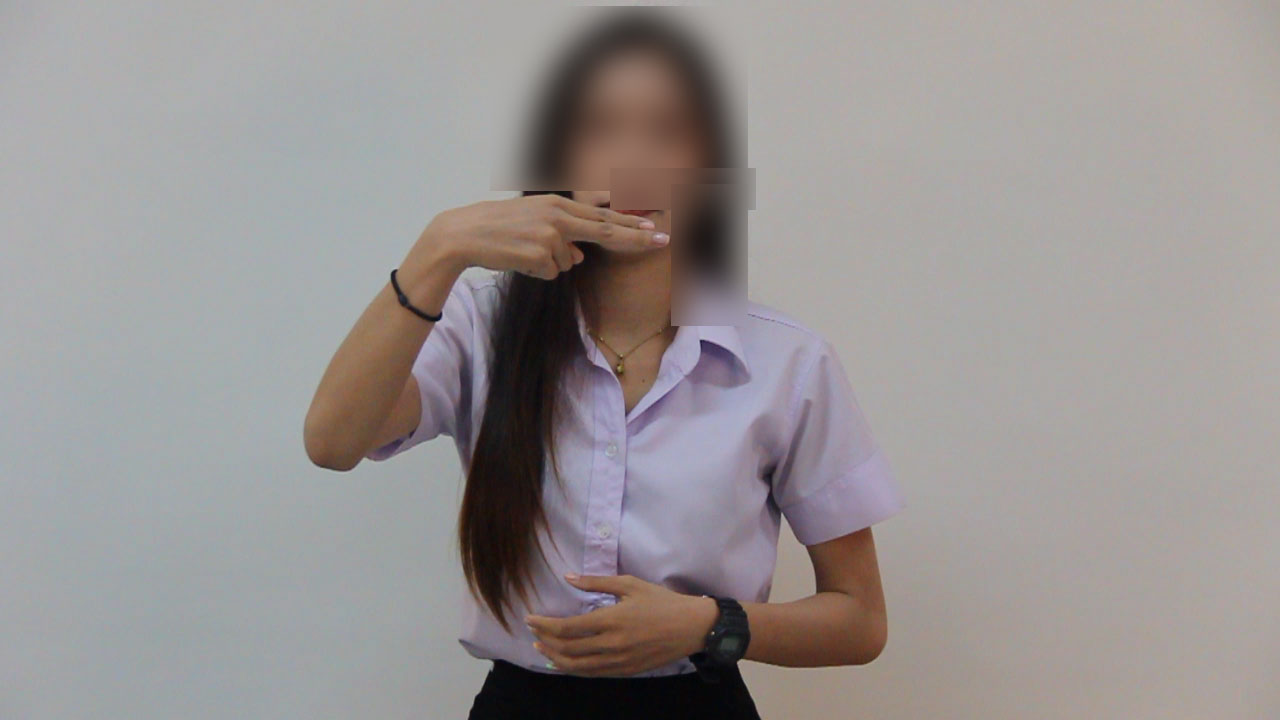hor: (428, 190, 676, 304)
